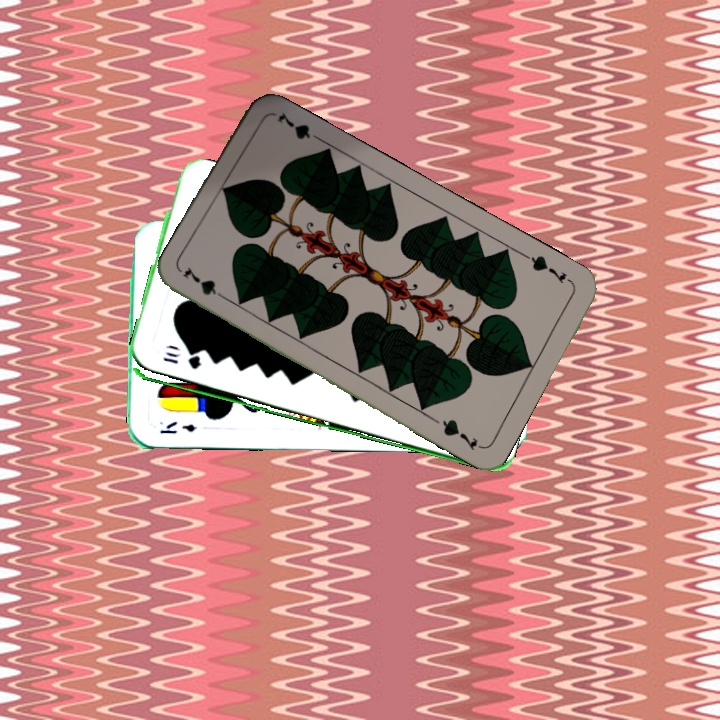EK: (156, 418, 199, 437)
G10: (159, 353, 204, 372)
G7: (178, 265, 233, 305), (521, 251, 576, 287)
